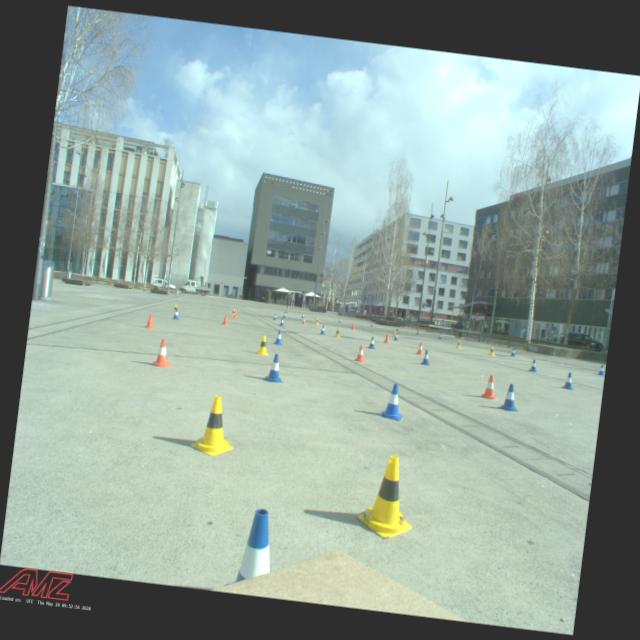blue_cone: (378, 381, 406, 420), (262, 352, 286, 383), (498, 382, 522, 412), (561, 371, 575, 389), (419, 348, 432, 366), (272, 329, 284, 345), (528, 358, 538, 372), (596, 364, 606, 376), (366, 336, 376, 348), (171, 308, 180, 320), (319, 324, 326, 334), (278, 317, 284, 326), (392, 332, 398, 341), (510, 348, 516, 357), (272, 313, 277, 320), (282, 312, 286, 318), (438, 332, 442, 338), (300, 313, 304, 318), (338, 317, 342, 322), (416, 329, 420, 334), (370, 322, 373, 326), (396, 326, 398, 330)
orange_cone: (150, 337, 174, 368), (480, 374, 500, 399), (354, 344, 367, 362), (144, 312, 156, 328), (415, 342, 425, 355), (222, 314, 230, 326), (383, 332, 391, 343), (232, 310, 238, 318), (350, 323, 356, 330), (302, 316, 306, 324)
yellow_cone: (352, 452, 420, 542), (189, 392, 239, 458), (256, 334, 270, 356), (333, 327, 341, 338), (488, 346, 496, 356), (454, 339, 462, 348), (172, 304, 178, 313), (231, 308, 236, 316), (392, 330, 397, 338), (314, 318, 320, 324)
